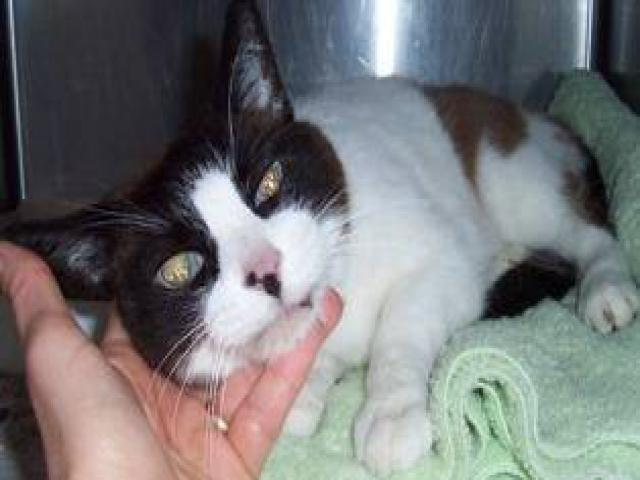cat: (30, 14, 625, 451)
